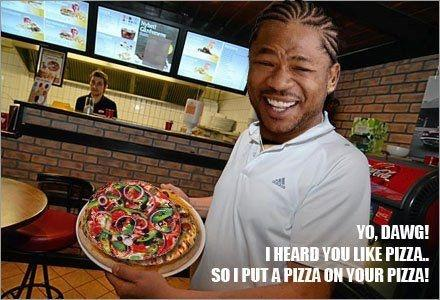bell pepper: (115, 184, 148, 203), (110, 207, 148, 219), (152, 208, 173, 222), (107, 194, 125, 208), (137, 230, 158, 242), (110, 240, 127, 251), (96, 232, 111, 242), (87, 200, 100, 208), (124, 224, 134, 234), (149, 244, 158, 254), (103, 230, 121, 234), (130, 256, 141, 260)
